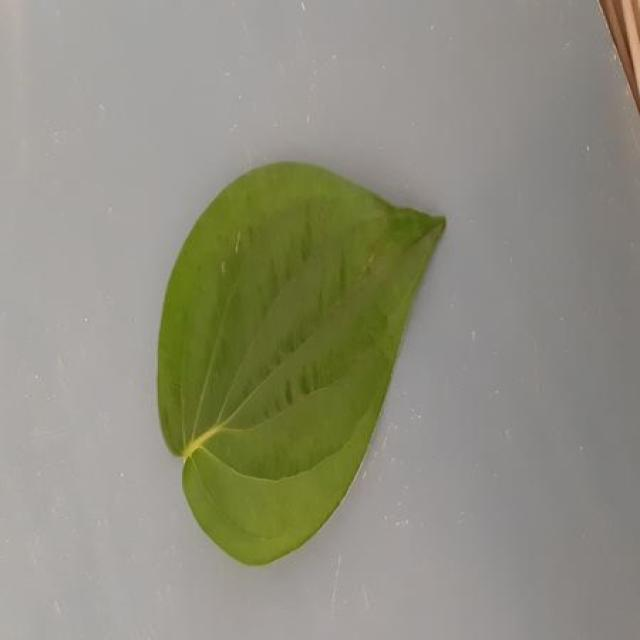betel: (158, 162, 445, 564)
